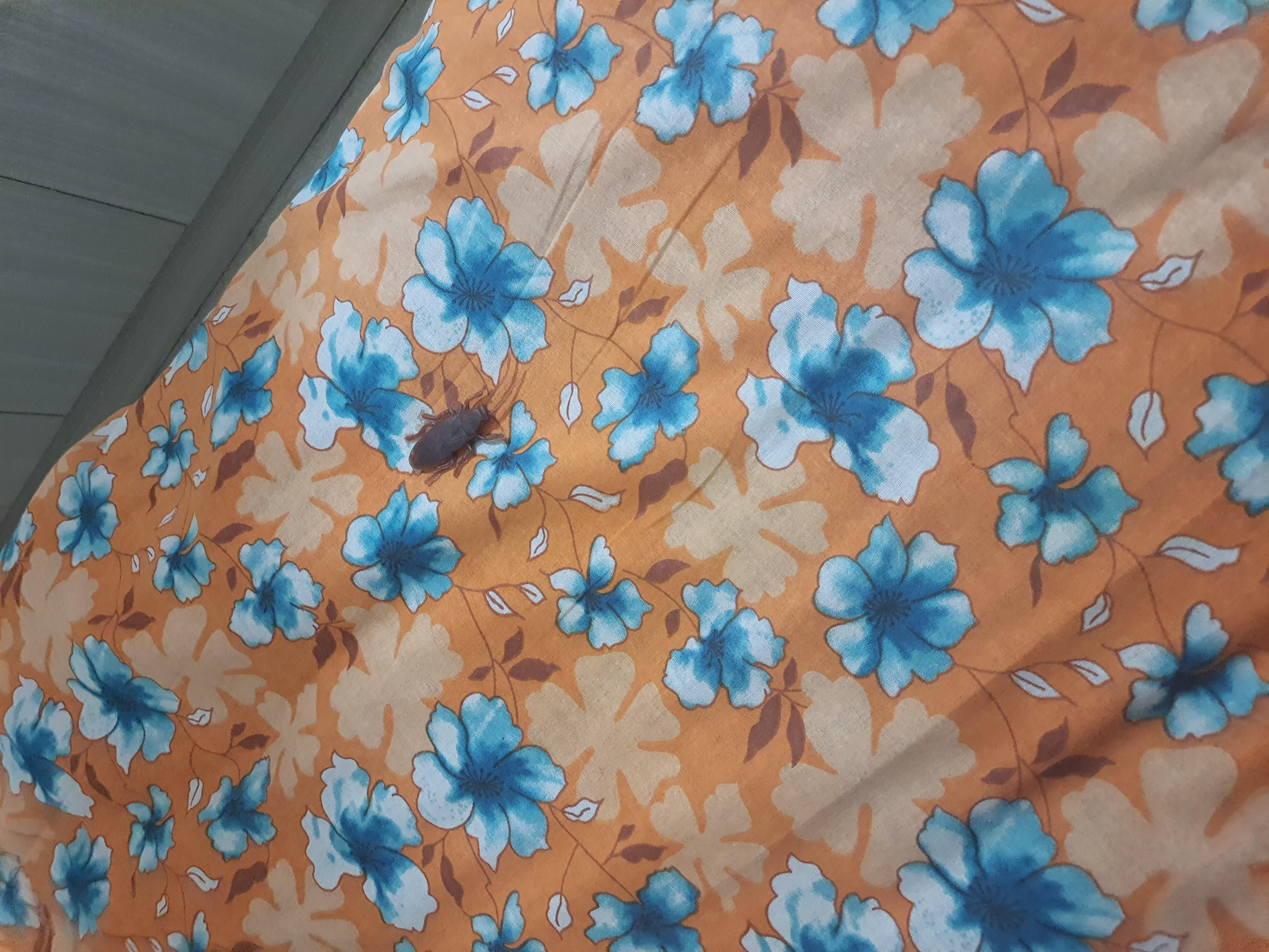cockroach: (594, 297, 825, 401)
